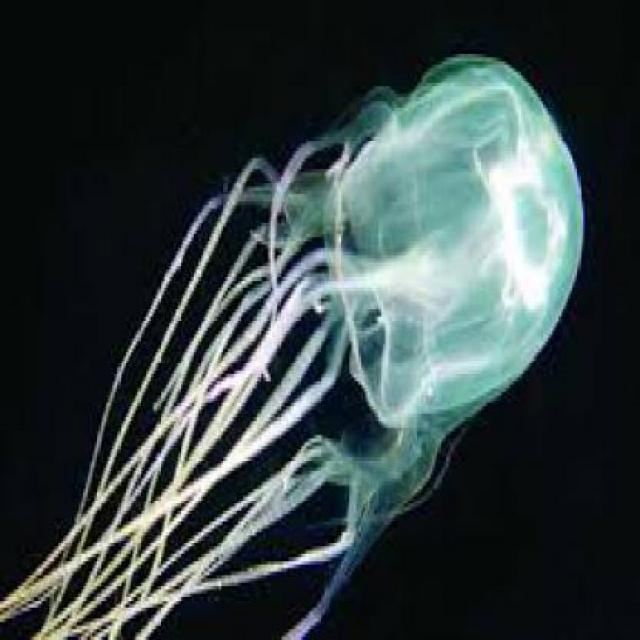Jellyfish: (48, 47, 586, 633)
